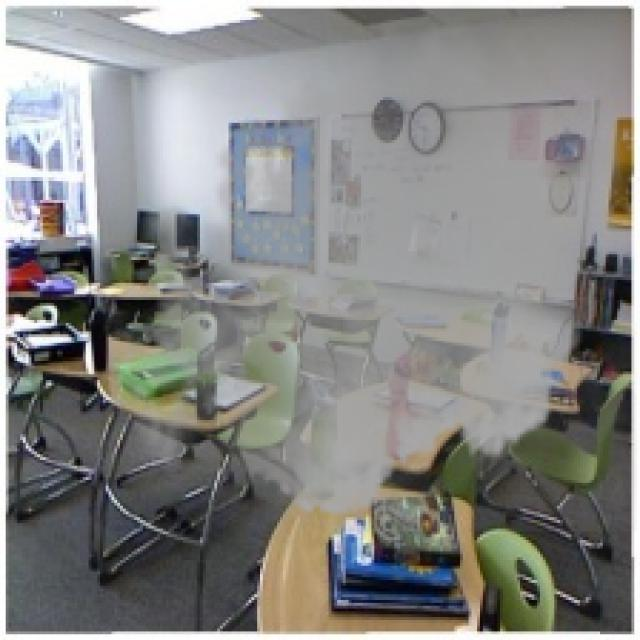smoke: (111, 0, 638, 532)
